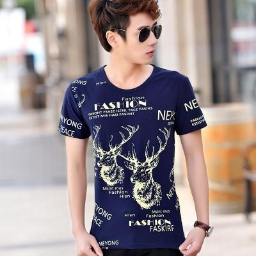face: (90, 1, 160, 66)
